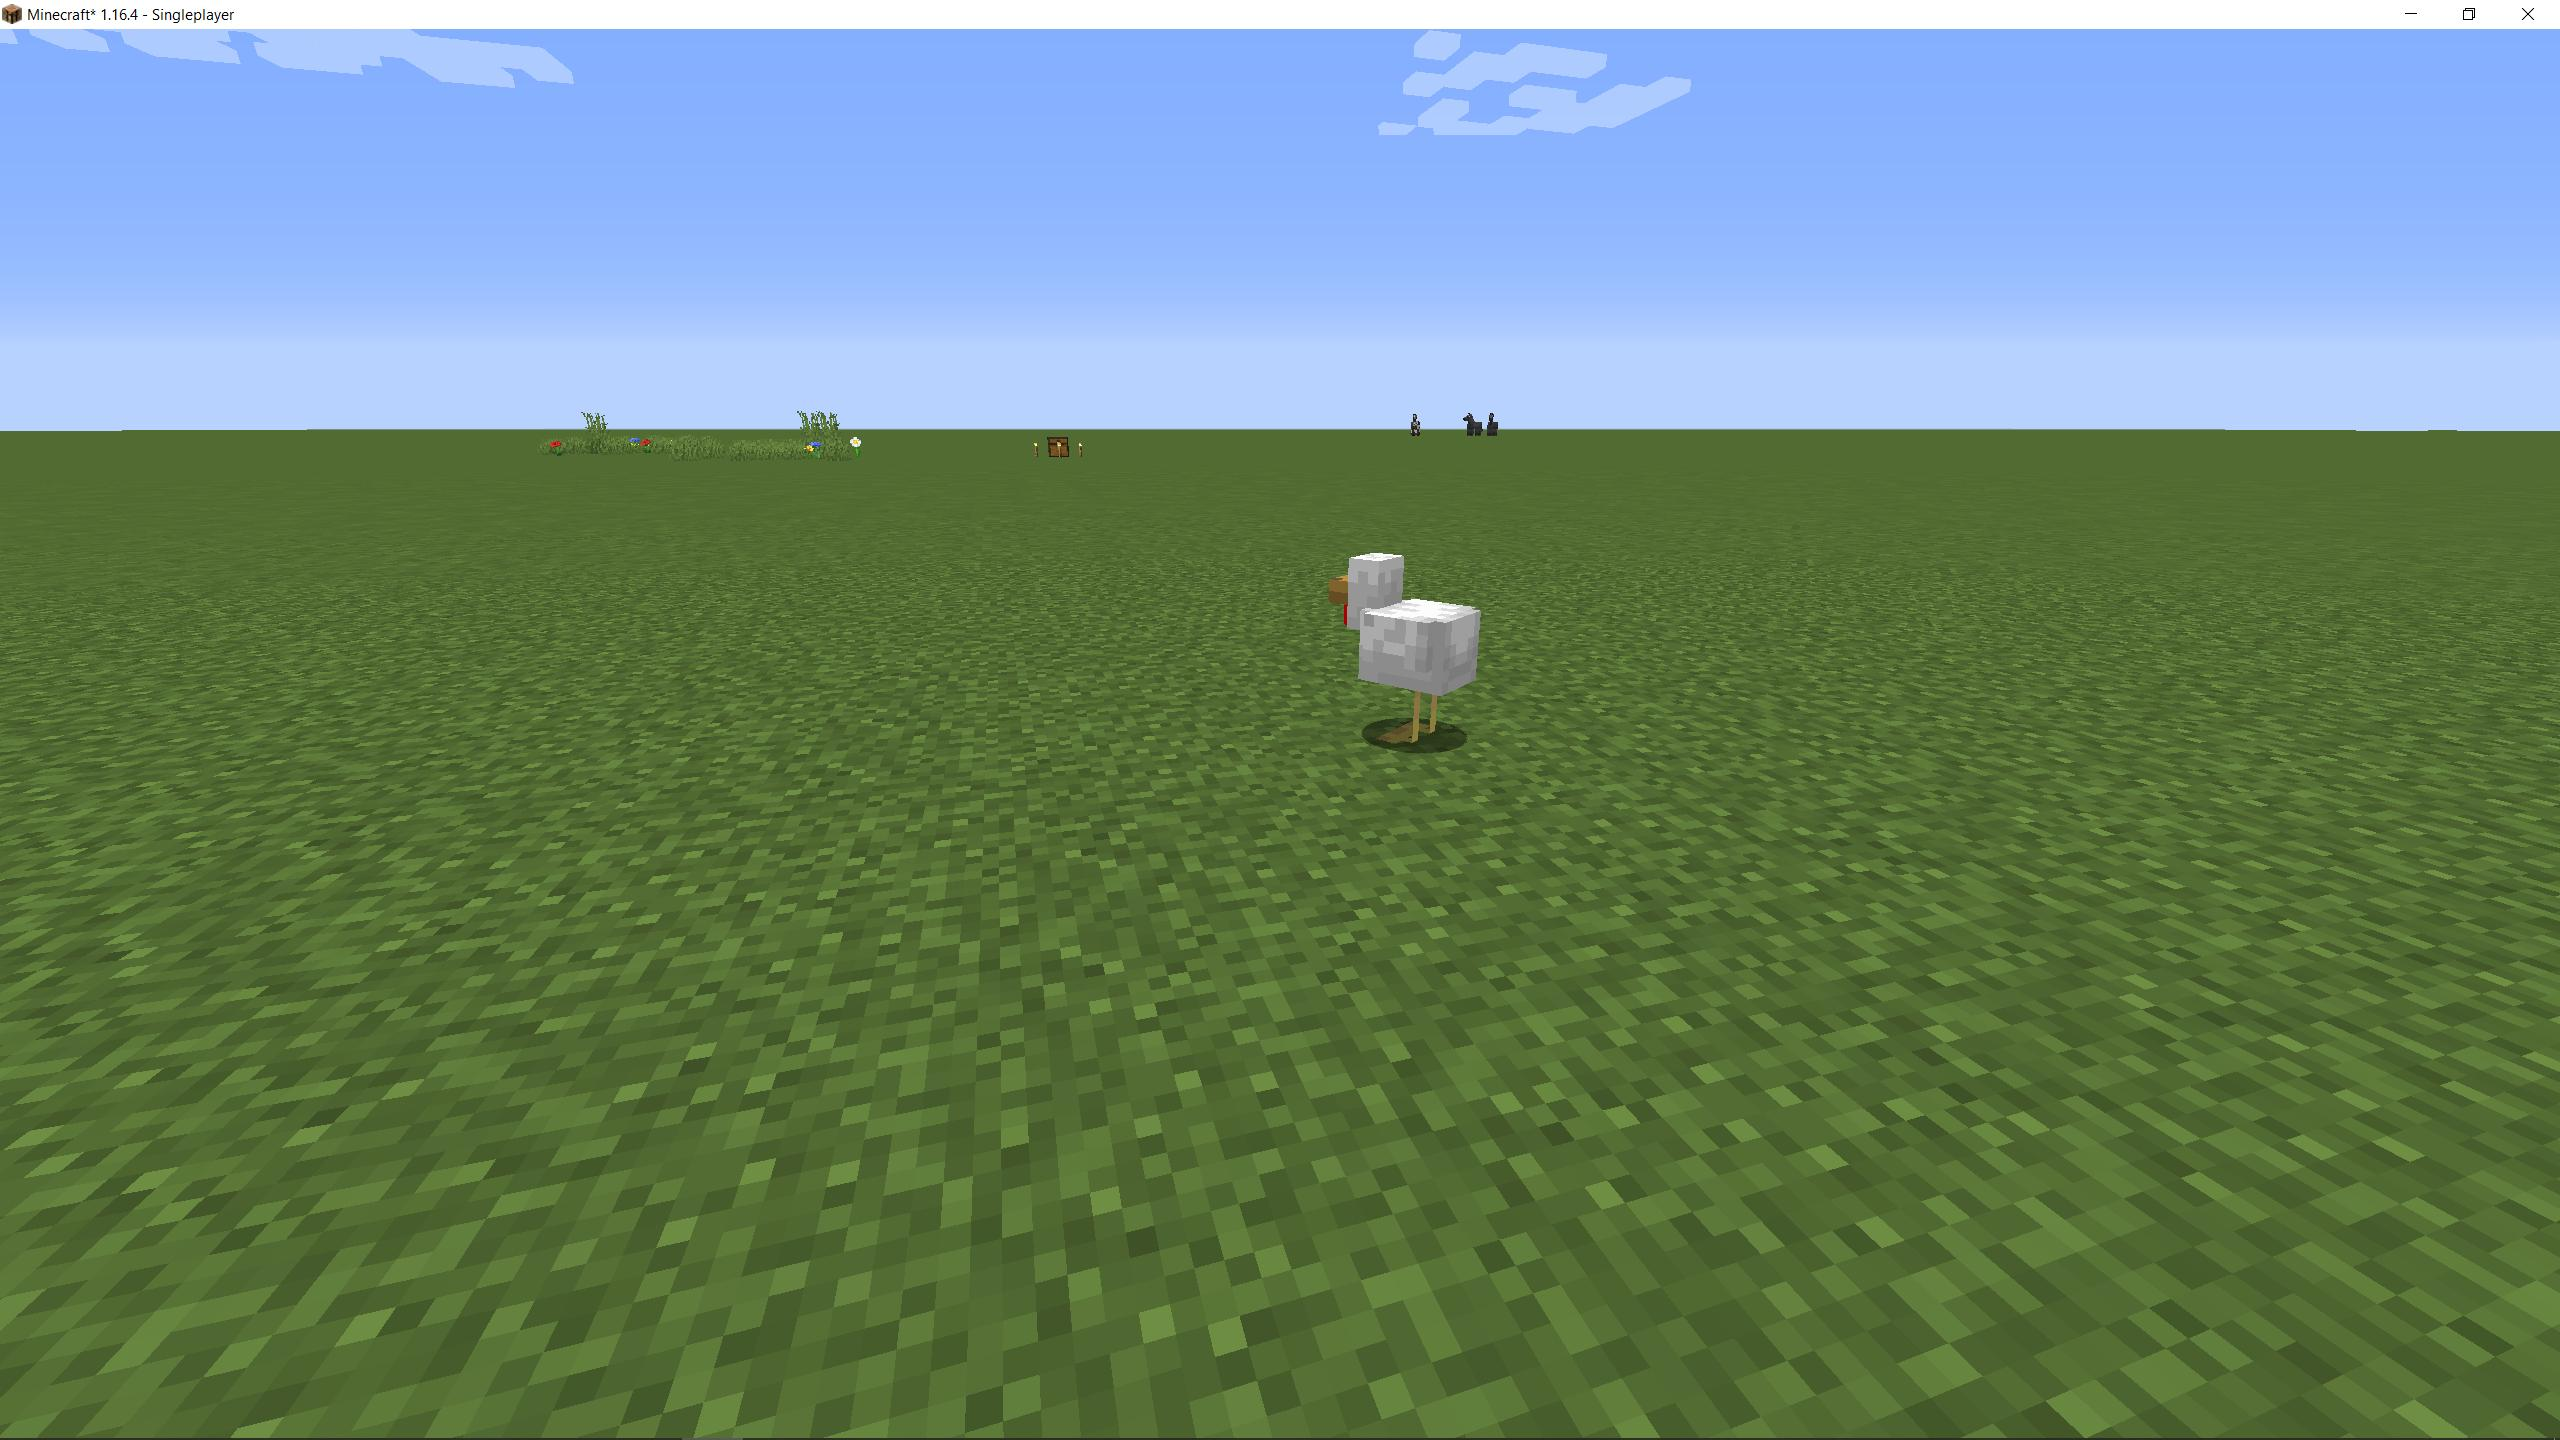chicken: (1315, 545, 1486, 758)
